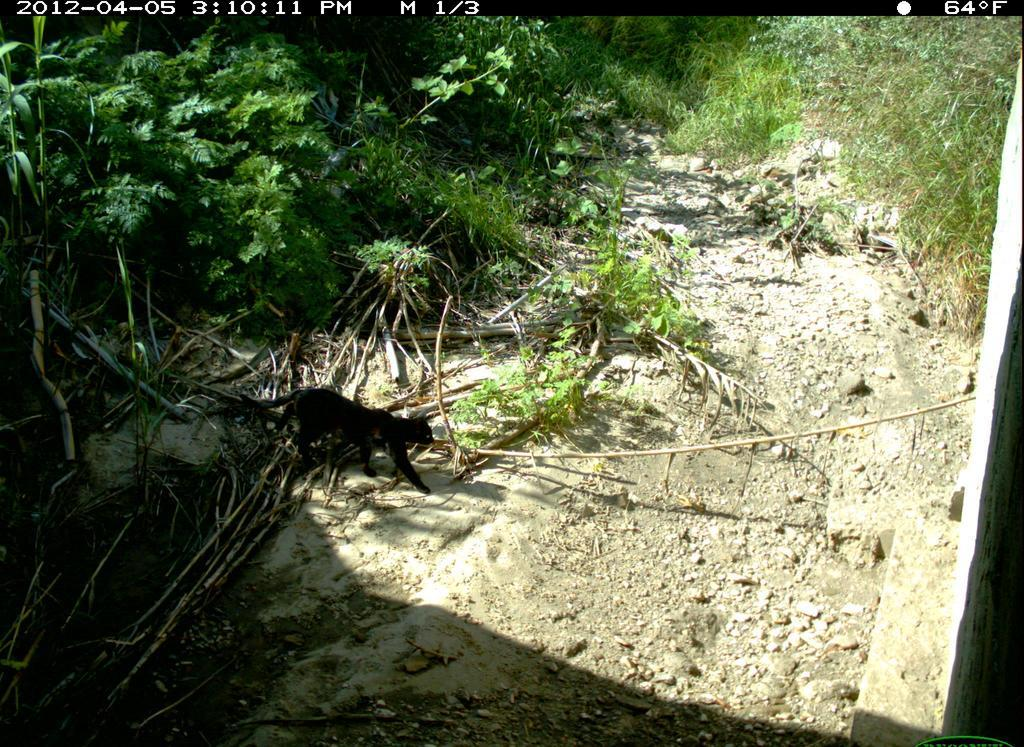cat: (217, 386, 458, 498)
